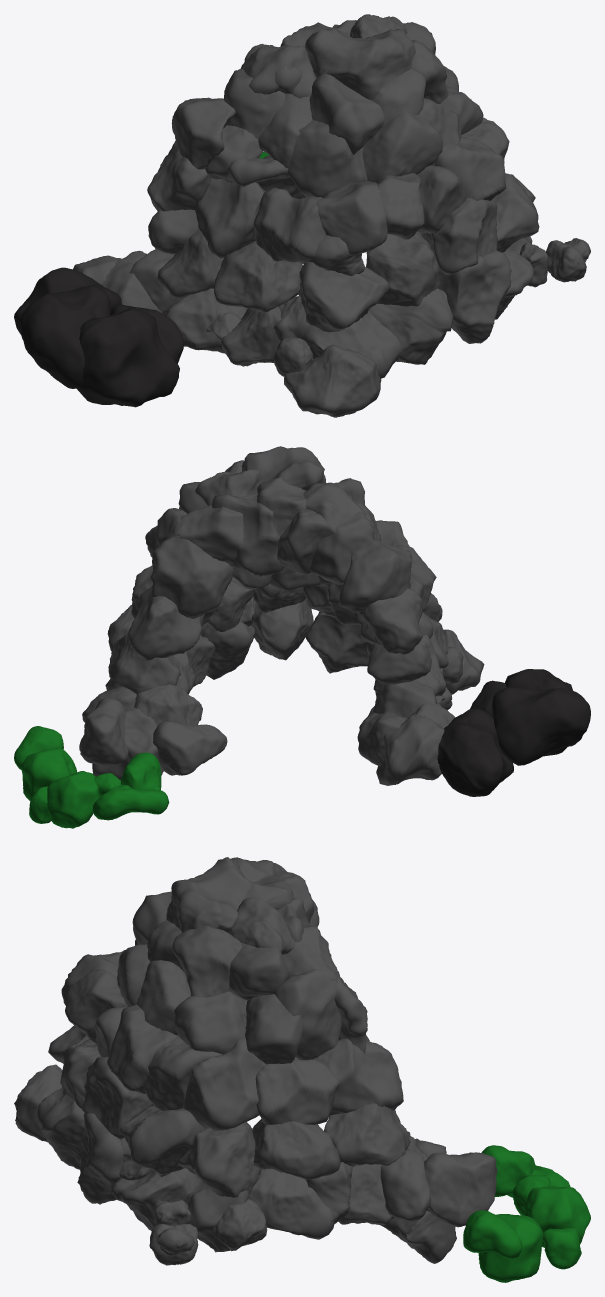
Rendered from cave_color_fix-model.fbx.
3 views of the same model, one above another, from view 1: azimuth 30°, elevation 25°; view 2: azimuth 150°, elevation 25°; view 3: azimuth 270°, elevation 25° (orthographic). The views are drawn at different scales.
Visible parts, largest first — view 1: rock, rock.013; view 2: rock, rock.013, rock.014; view 3: rock, rock.014.
Part boxes in pixels (x1,y1,x2,y2): rock: (73, 14, 590, 417); rock.013: (14, 267, 183, 407); rock: (79, 446, 484, 785); rock.013: (437, 669, 590, 796); rock.014: (14, 726, 169, 828); rock: (14, 857, 497, 1265); rock.014: (463, 1145, 590, 1282).
Size of the model in its own units: 859 by 492 by 758.
